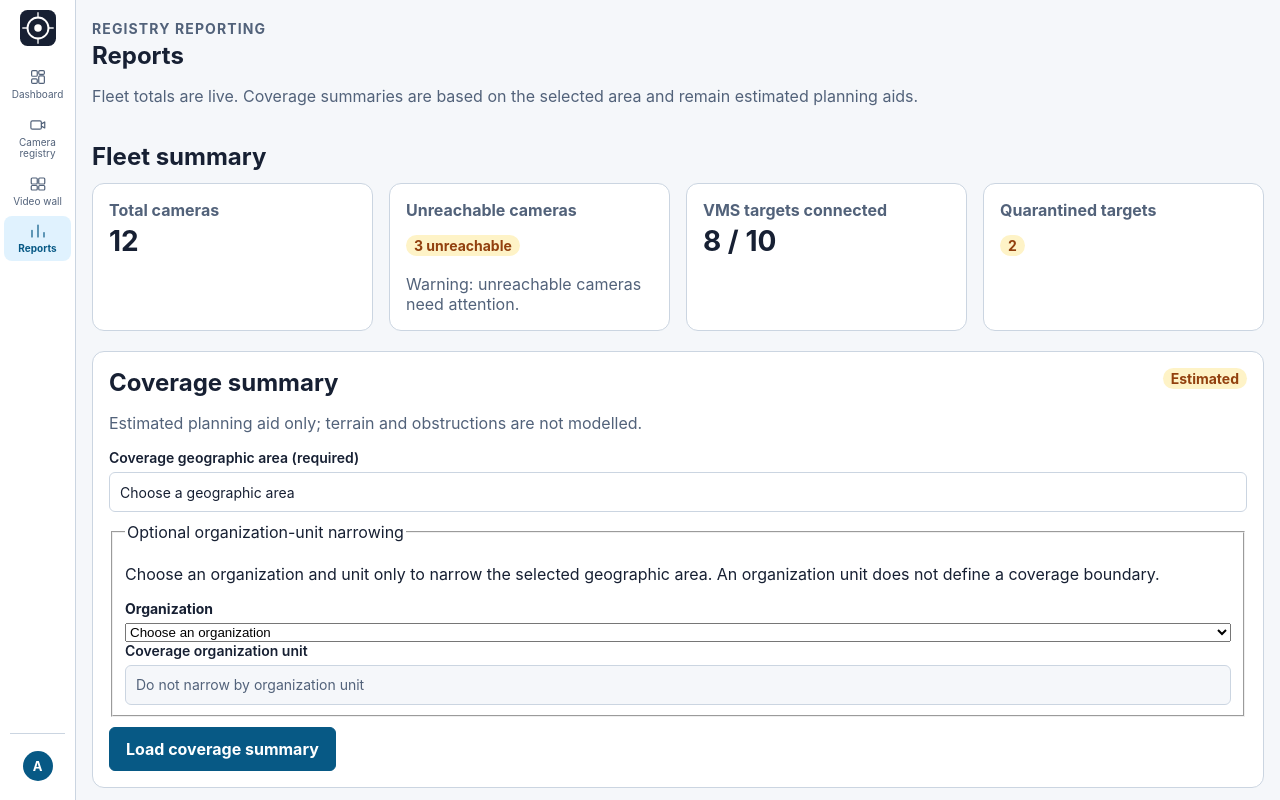
Test case: ReportsPage › does not load coverage when an organization unit is selected without a geographic boundary
Expected: the text "12" is shown, [109,224,139,258]
Expected: the element "Optional organization-unit narrowing" is shown, [111,522,1245,717]
Select "Operations (OPS)" in the dropdown labelled "Organization". click: {"x": 678, "y": 632}
box: [125,623,1231,642]
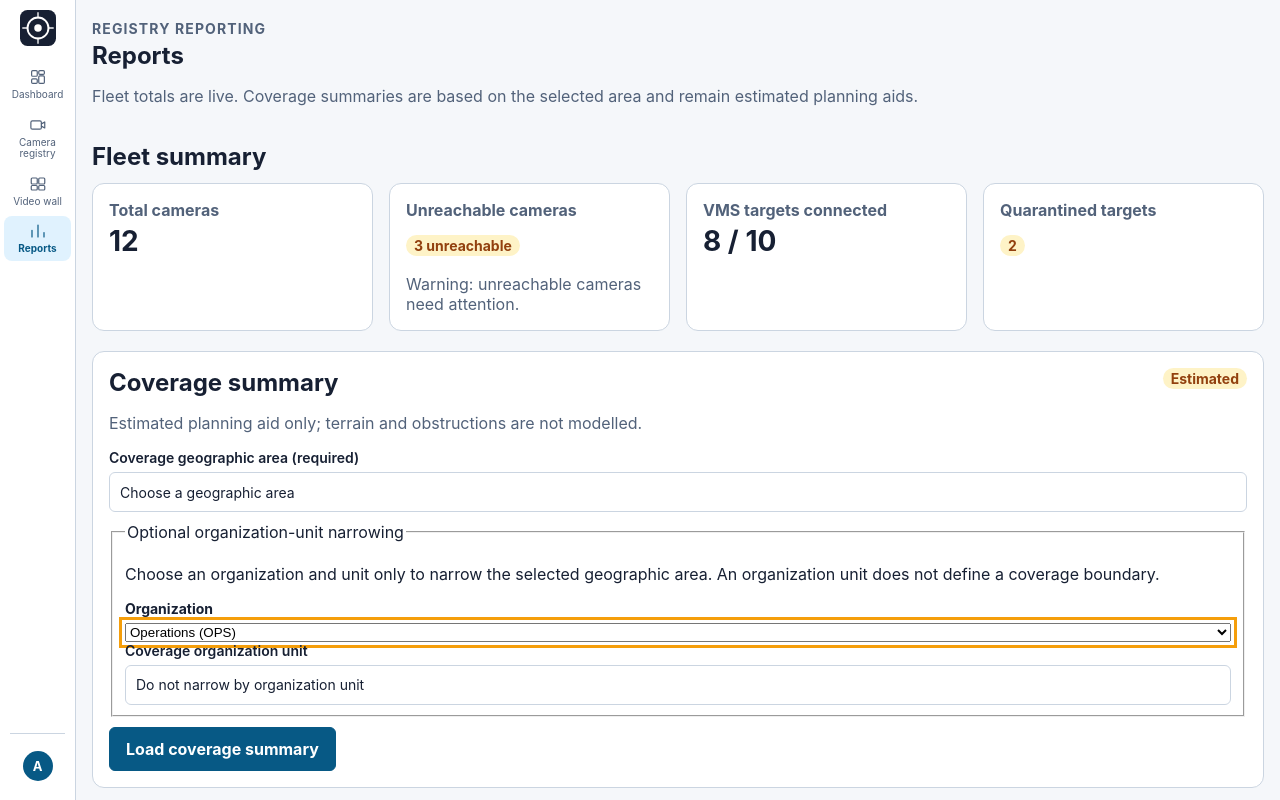
Click the dropdown named "coverage organization unit". click: {"x": 250, "y": 685}
box: [125,665,1231,705]
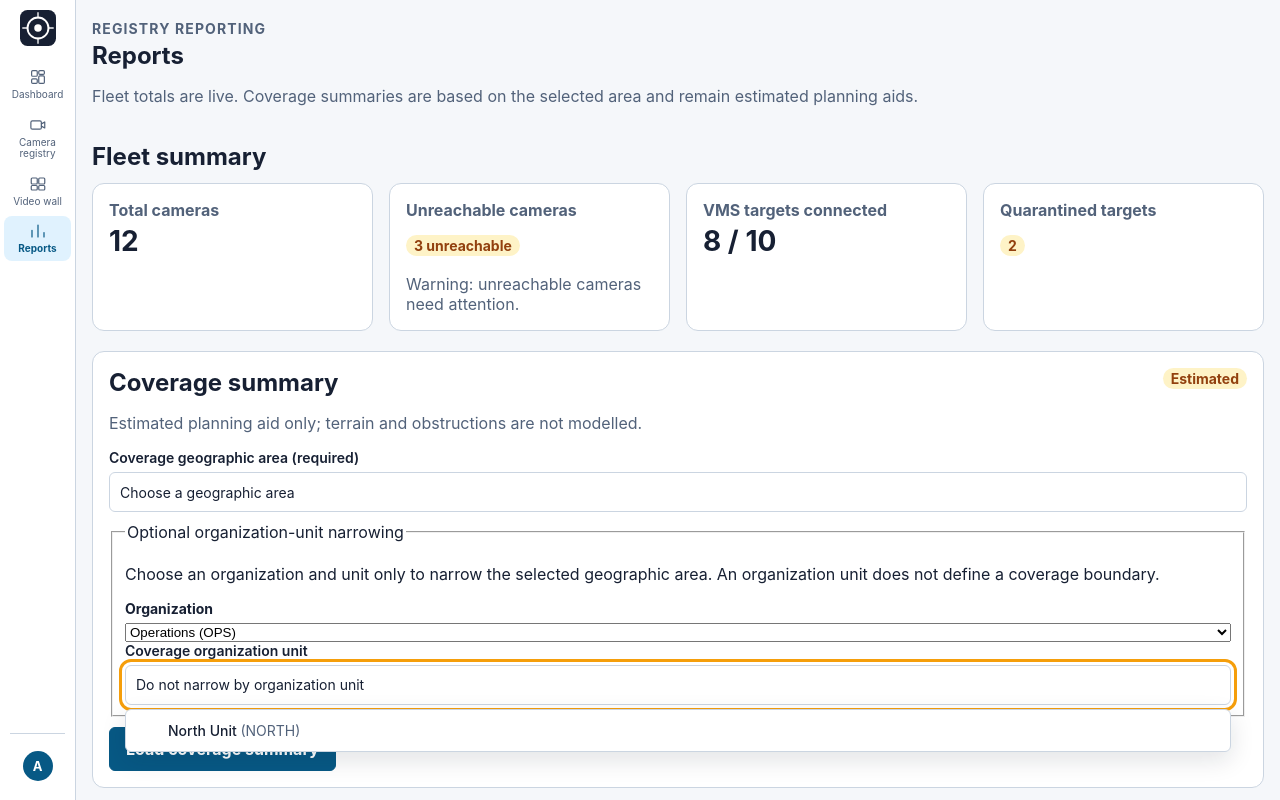
Click the button "North Unit (NORTH)". click: {"x": 202, "y": 730}
box: [160,716,1224,745]
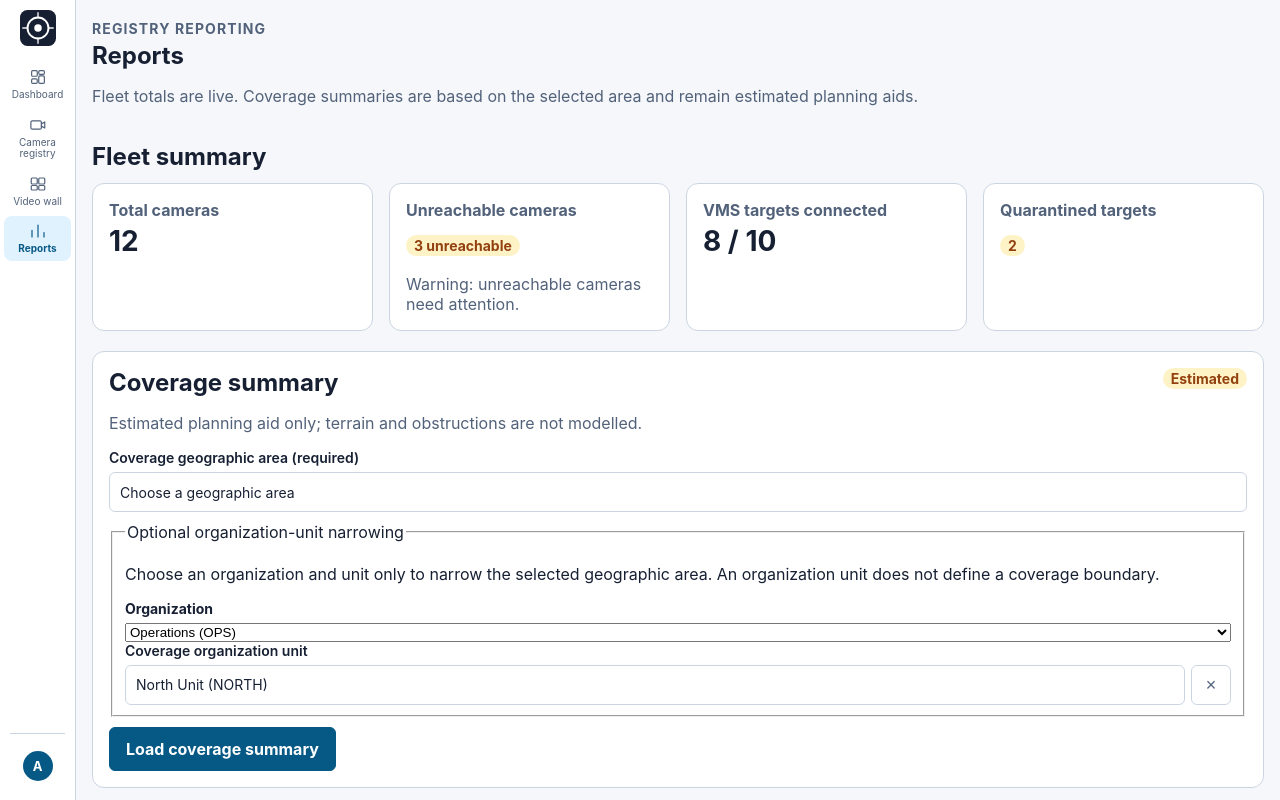
Click the button "Load coverage summary". click: {"x": 222, "y": 749}
box: [109,727,336,771]
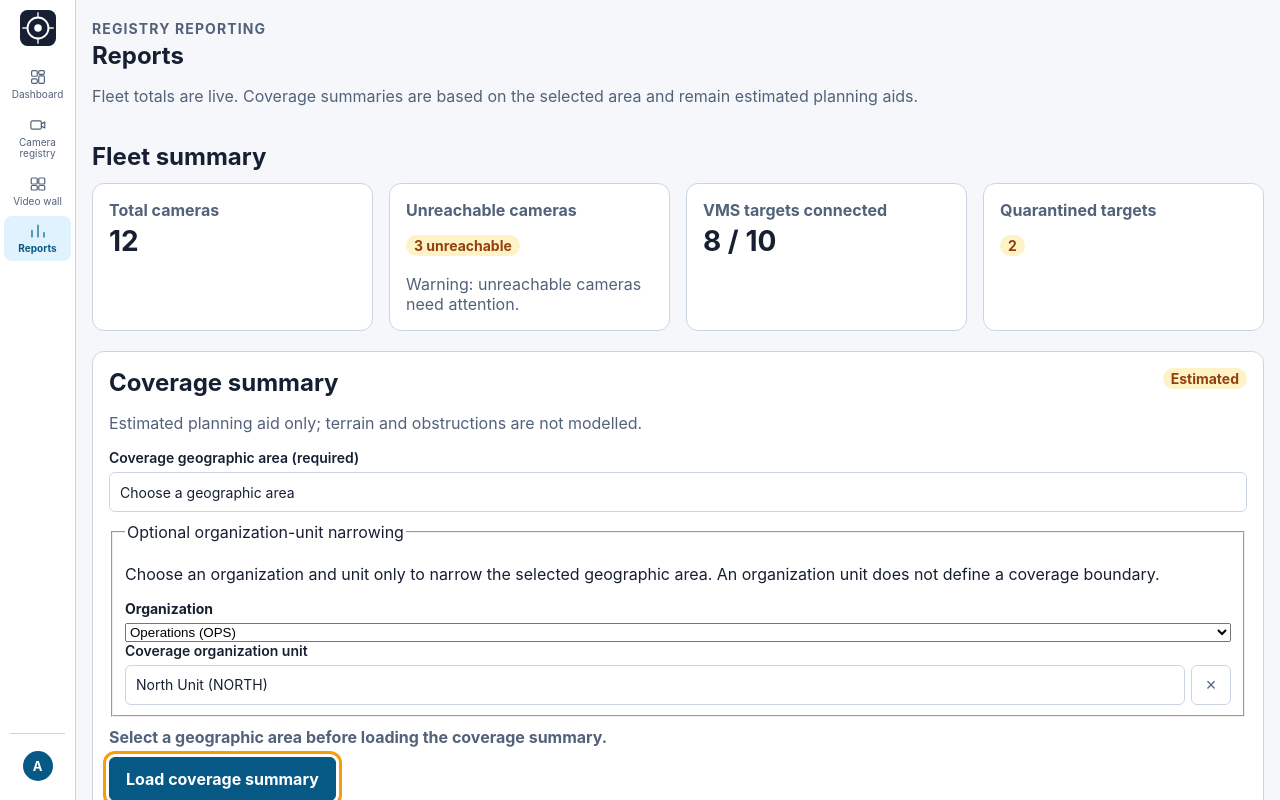
Now the message shows "Select a geographic area", box [109,727,607,747]
